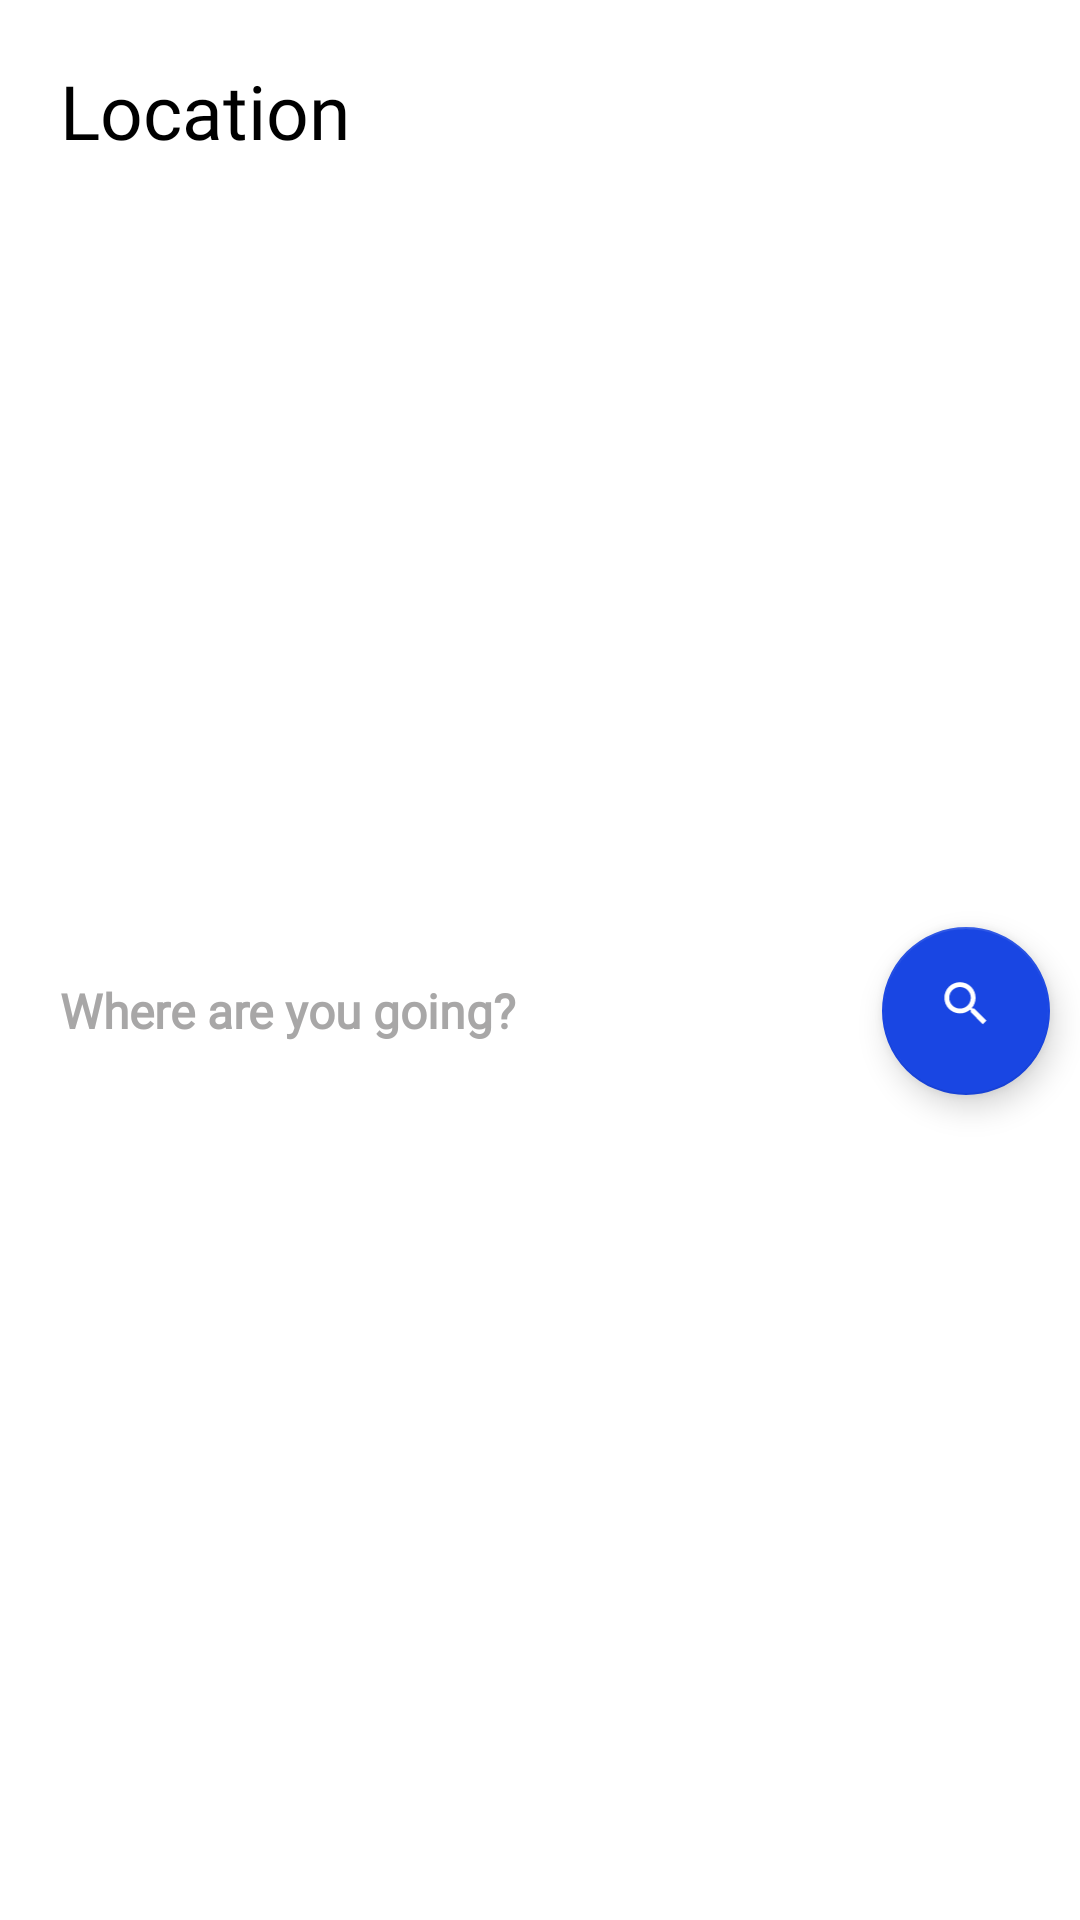

Screen size 1080w x 1920h. Icon name, then its box in pixels as (x1, y1, x2, y2):
search: (882, 927, 1050, 1095)
